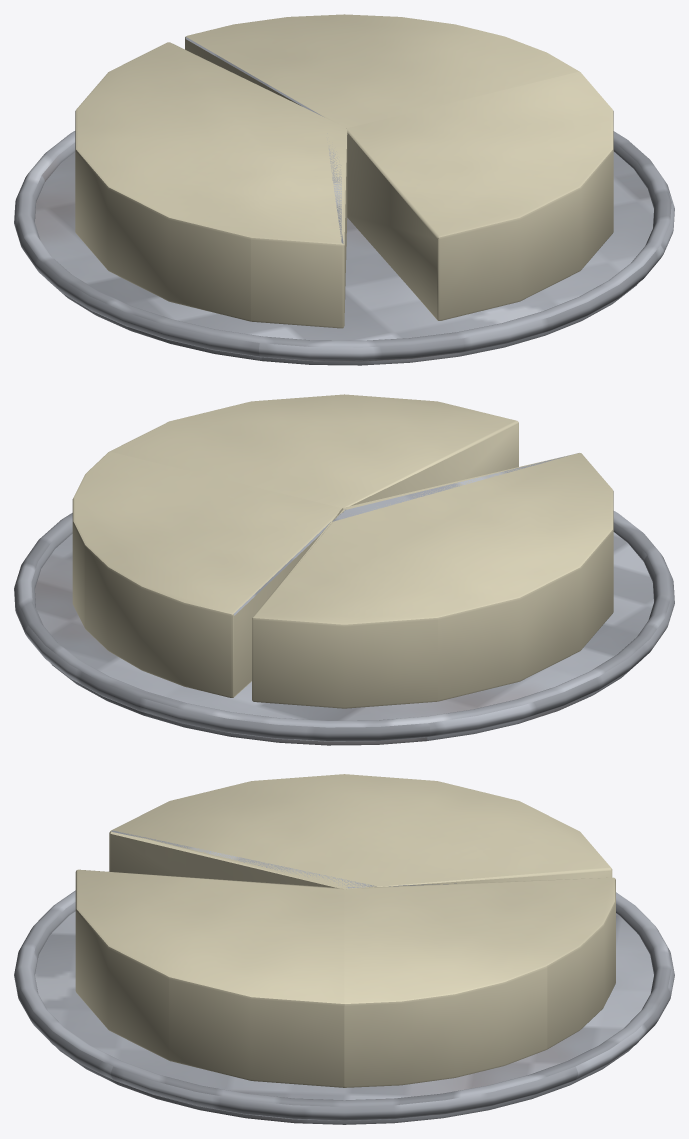
File: prop_brie_wheel.glb
The picture shows the model from 3 angles, top to bottom: view 1: azimuth 30°, elevation 25°; view 2: azimuth 150°, elevation 25°; view 3: azimuth 270°, elevation 25°; orthographic projection.
Parts seen in each view (by area): view 1: prop_brie_wheel; view 2: prop_brie_wheel; view 3: prop_brie_wheel.
Boxes of the visible parts, box(x1,y1,x2,y2) form: prop_brie_wheel: box(14, 14, 674, 365); prop_brie_wheel: box(14, 394, 674, 745); prop_brie_wheel: box(14, 774, 674, 1124).
Bounding box in the file's own units: 0.7022 × 0.12 × 0.7022.
Materials: 2 (2 with a texture image).
